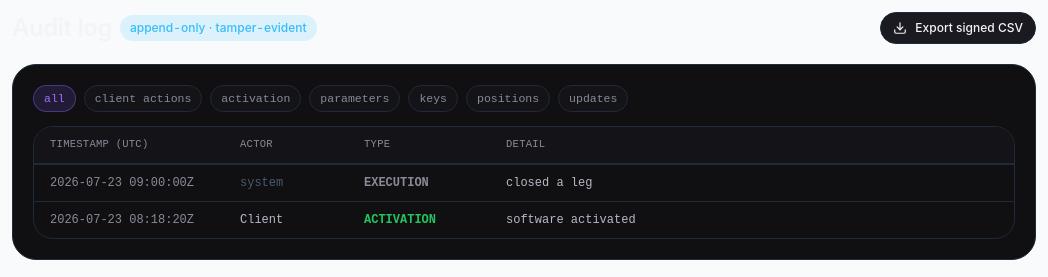
Scenario: AuditLogPage › renders entries and filters by type
Check: the text "software activated" is shown, box [506, 213, 636, 227]
Check: the text "closed a leg" is shown, box [506, 176, 592, 190]
Click the button "activation" at (256,99), box [210, 85, 301, 112]
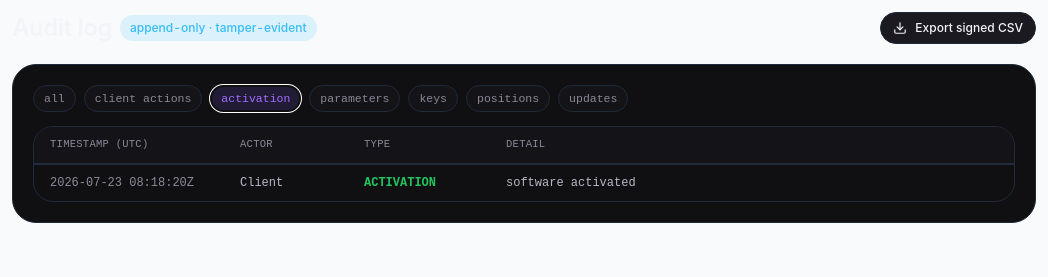
Check: the text "software activated" is shown, box [506, 176, 636, 190]
Check: the text "closed a leg" is gone
